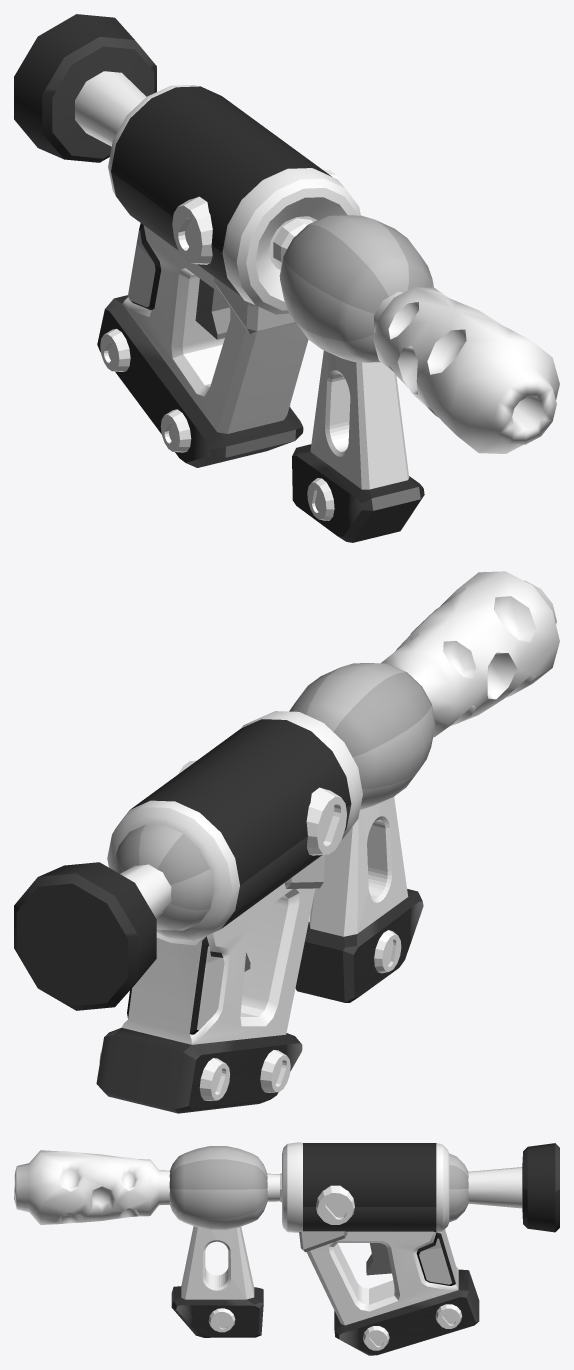
3 views of the same model, one above another, from view 1: azimuth 30°, elevation 25°; view 2: azimuth 150°, elevation 25°; view 3: azimuth 270°, elevation 25° (orthographic). The views are drawn at different scales.
Visible parts, largest first — view 1: Weap_group1Weap7; view 2: Weap_group1Weap7; view 3: Weap_group1Weap7.
Boxes of the visible parts, x1,y1,x2,y2 form: Weap_group1Weap7: [14, 14, 559, 542]; Weap_group1Weap7: [14, 571, 559, 1113]; Weap_group1Weap7: [14, 1142, 559, 1355].
Bounding box in the file's own units: 2.19 × 4.78 × 11.88.
